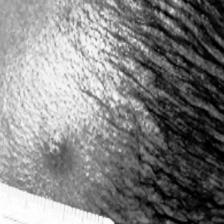Benign Marking or Mole: (45, 133, 67, 165)
